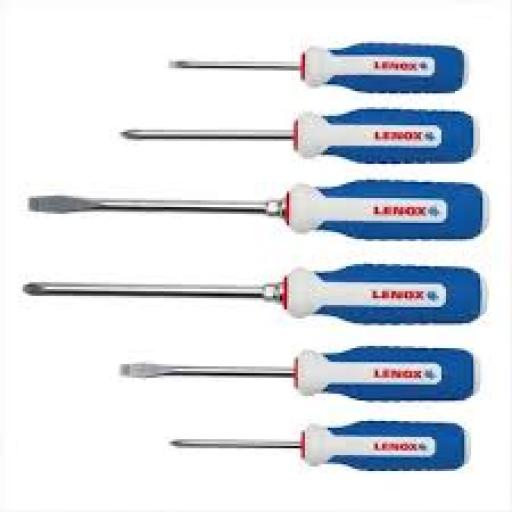screwdriver: (24, 263, 488, 325), (27, 182, 490, 240), (121, 109, 479, 164), (120, 347, 480, 401), (169, 44, 469, 96), (169, 420, 469, 471)
